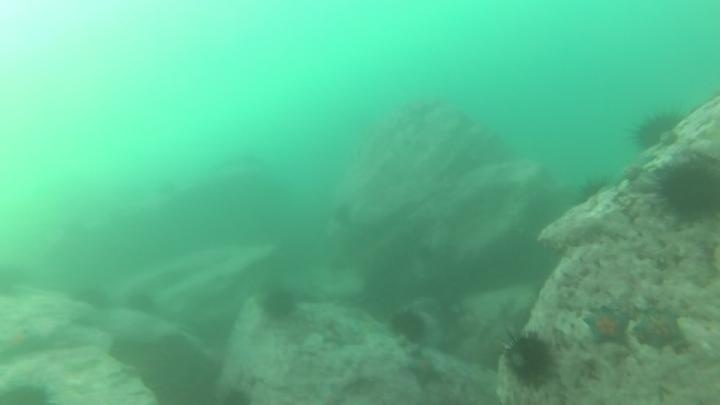echinus: (650, 152, 720, 226), (498, 328, 559, 389), (629, 106, 686, 154), (387, 307, 430, 345), (258, 285, 300, 323), (571, 173, 613, 211), (1, 378, 57, 404), (70, 283, 114, 313), (123, 287, 159, 318)
starfish: (631, 304, 690, 354), (581, 303, 634, 349), (0, 323, 48, 366), (402, 349, 446, 390), (20, 312, 67, 342)
